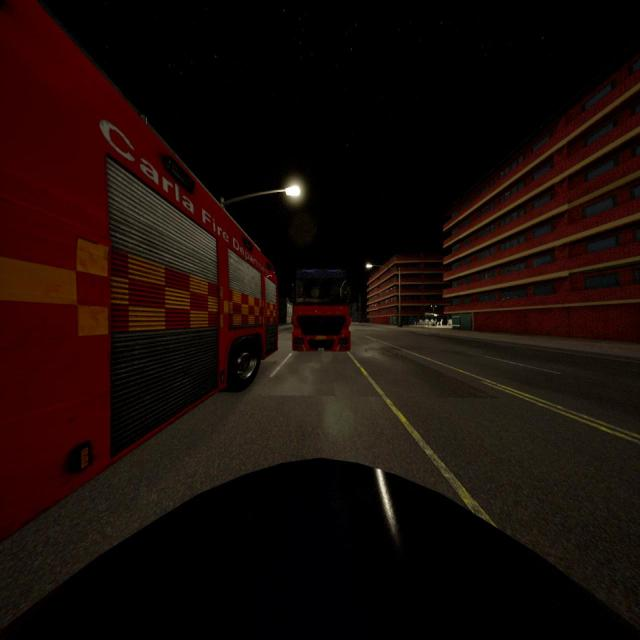Vehicle: (0, 0, 279, 533), (0, 463, 640, 639), (292, 270, 350, 351)
